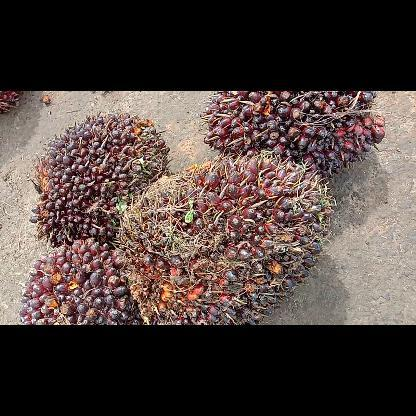Kurang masak: (113, 150, 334, 324), (30, 112, 168, 247), (201, 91, 386, 175), (18, 238, 142, 324)
